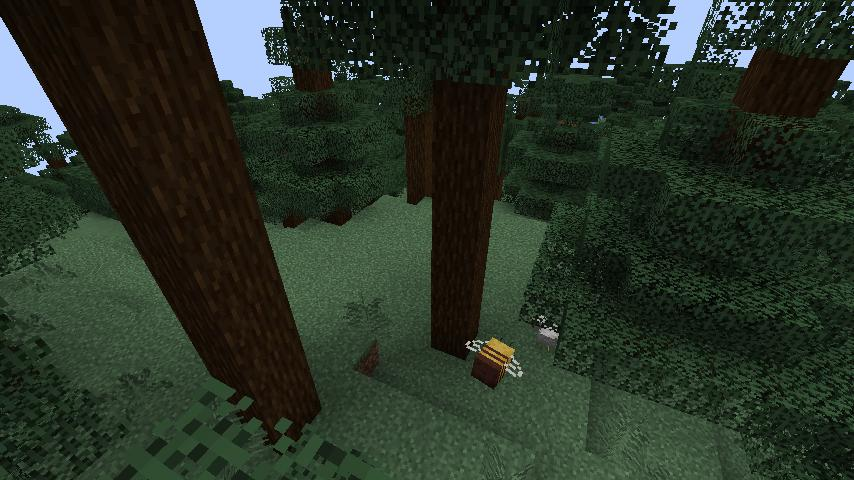bee: (462, 333, 525, 391)
